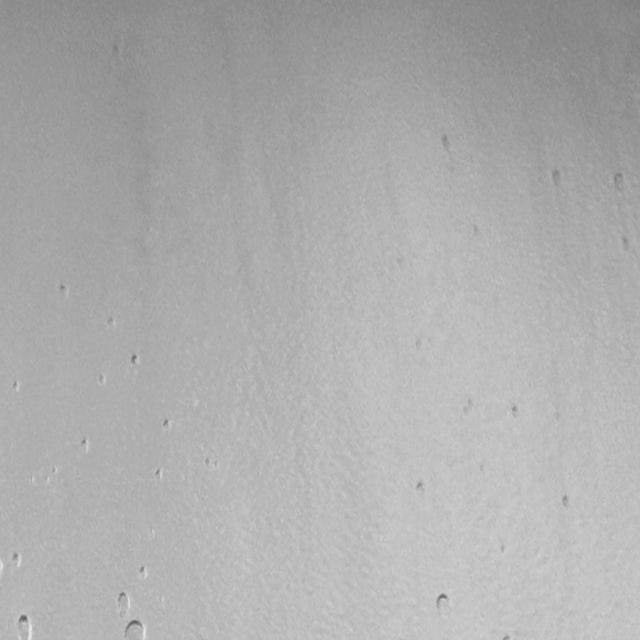pin holes: (610, 170, 632, 200), (14, 612, 36, 640), (432, 594, 454, 622), (122, 616, 146, 640), (412, 478, 432, 502), (549, 167, 568, 191), (460, 396, 479, 420), (113, 593, 131, 617), (618, 233, 634, 256), (438, 133, 455, 154), (558, 494, 575, 514), (508, 402, 524, 423), (57, 283, 71, 301), (128, 354, 142, 371), (11, 550, 24, 568), (203, 454, 217, 470), (136, 566, 149, 583), (153, 467, 166, 484), (161, 416, 174, 433), (11, 378, 24, 394), (81, 438, 93, 455), (107, 314, 120, 329), (96, 373, 108, 388), (49, 466, 59, 484)
